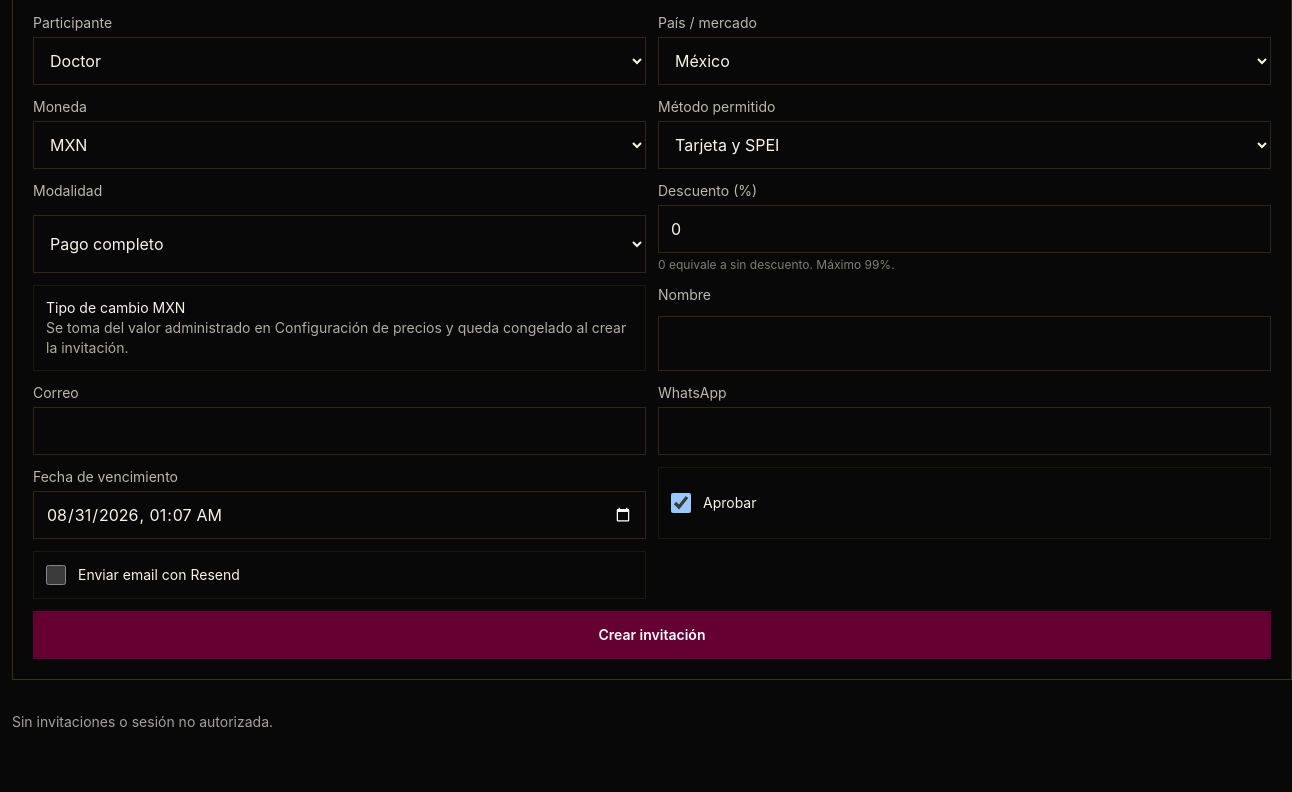
Test: admin components › crea invitación de anticipo 50%
Select "Aparta con 50%" in the dropdown labelled "Modalidad": (340, 244) [33,215,646,273]
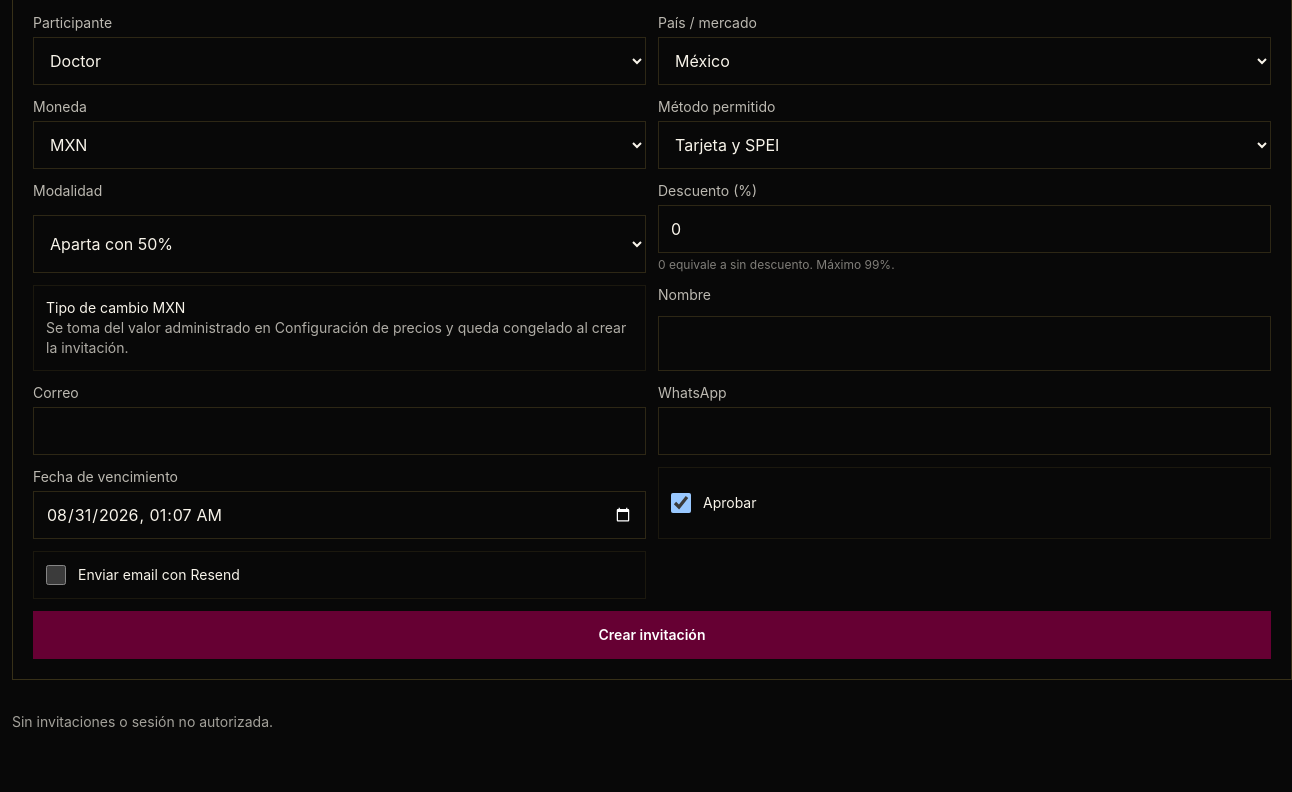
In the field labelled "Nombre": (964, 344) [658,316,1271,371], type "Dra Test"
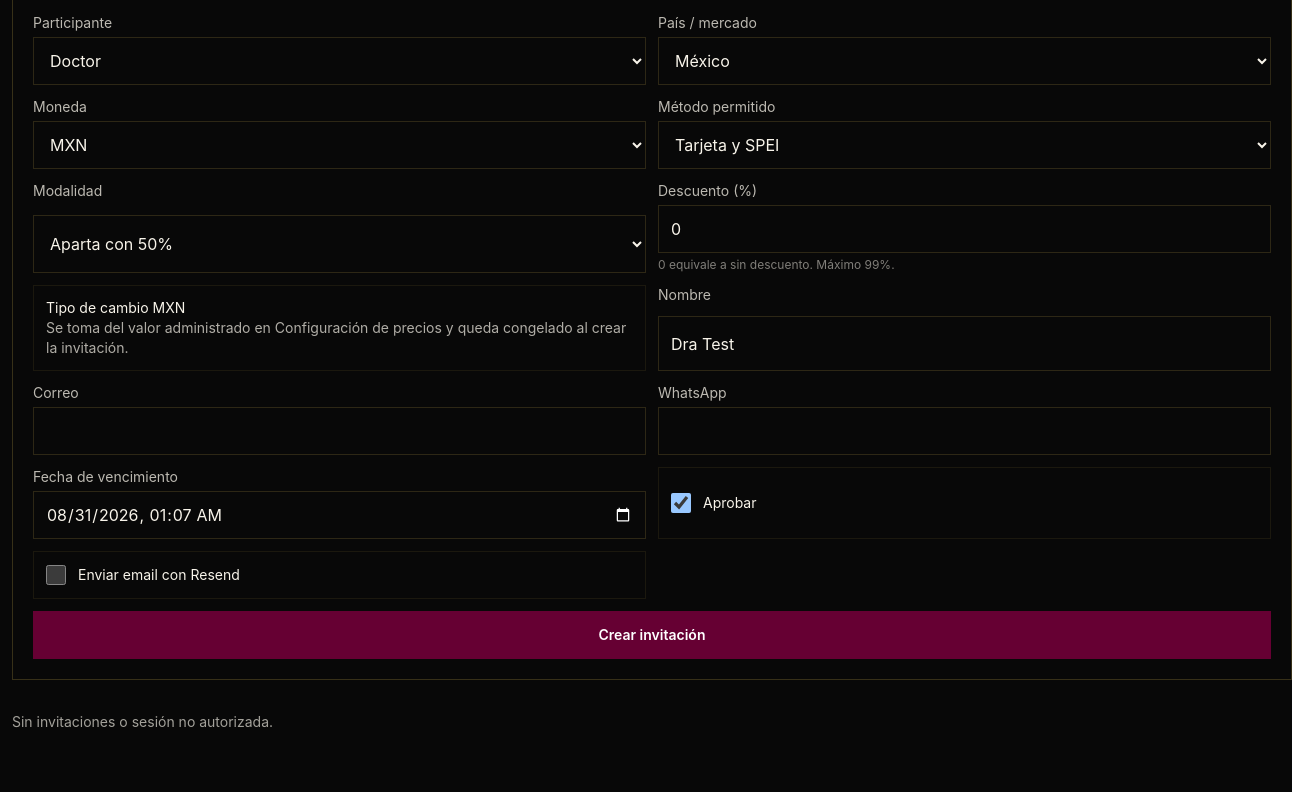
In the field labelled "Correo": (340, 431) [33,407,646,455], type "yoanna@example.com"
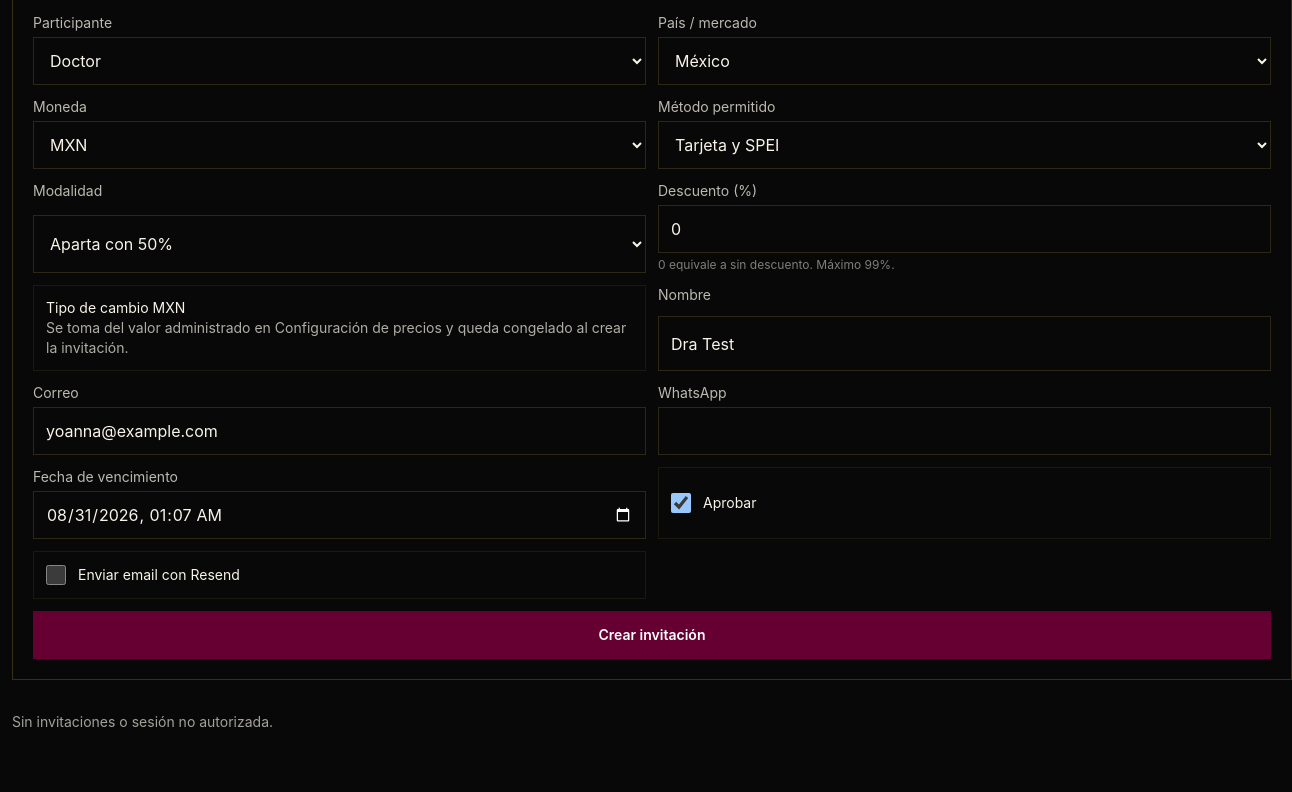
Click the button "Crear invitación": (652, 635) [33,611,1271,659]
(page scrolled)
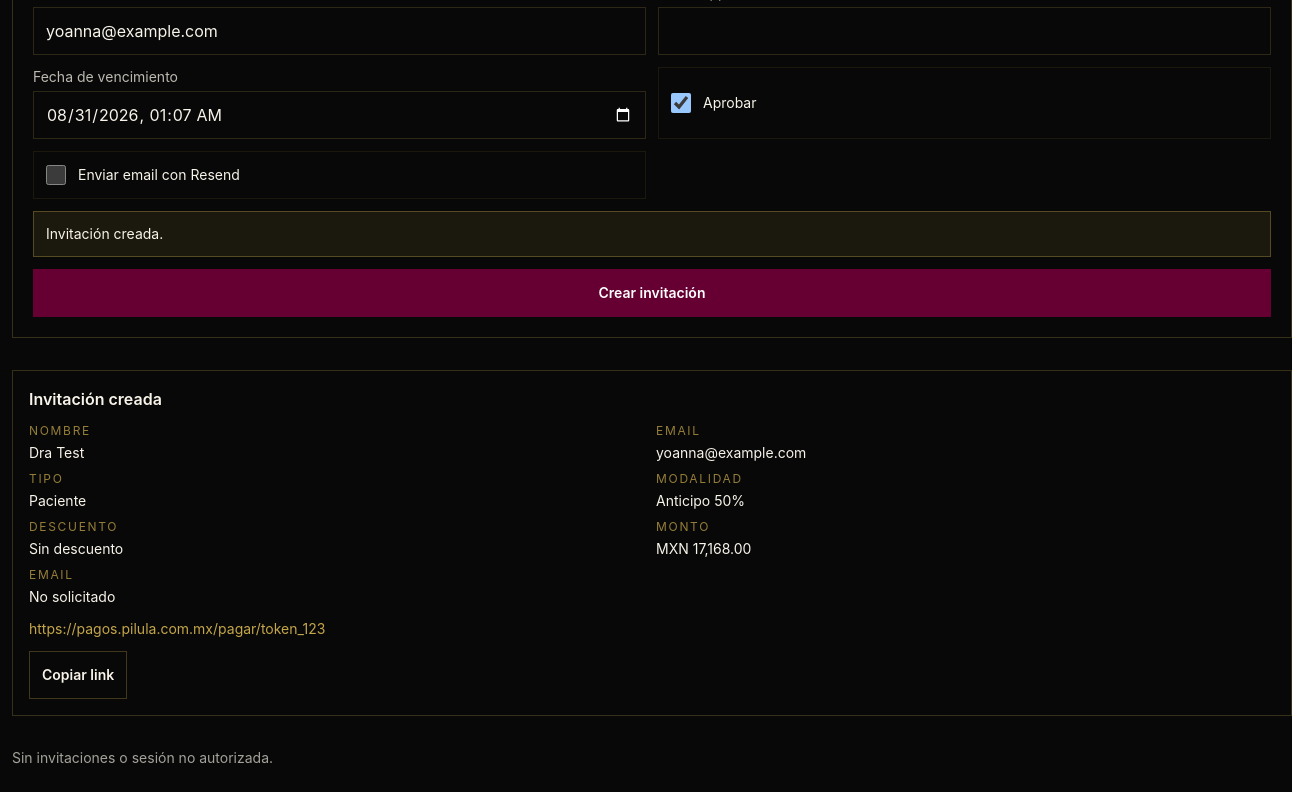
Expected: the text "Anticipo 50%" is shown, [656,492,745,509]
